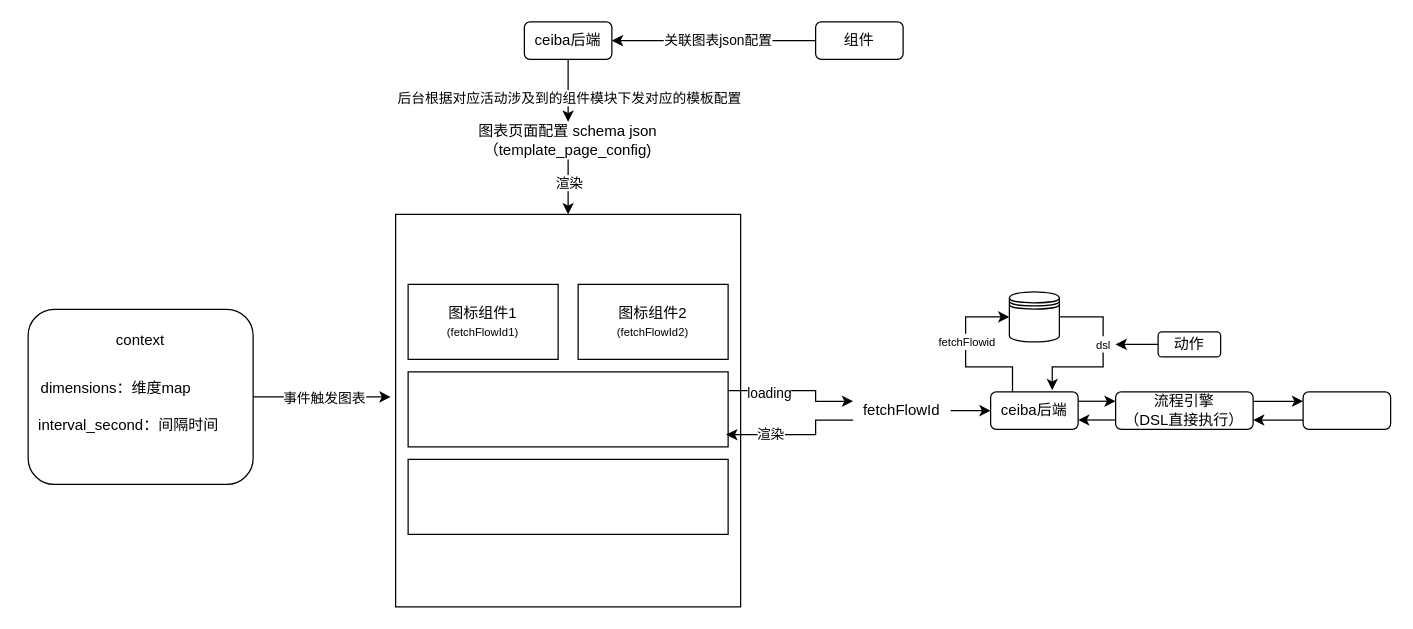
Some shapes in this 1413 by 629 pixel diagram are drawn without their labels. Each missing label, with the centre of its shape:
"图标组件3 (fetchFlowId3)" goes at pixel 567 409.
"图标组件4 (fetchFlowId4)" goes at pixel 567 496.
"数据服务" goes at pixel 1346 410.
